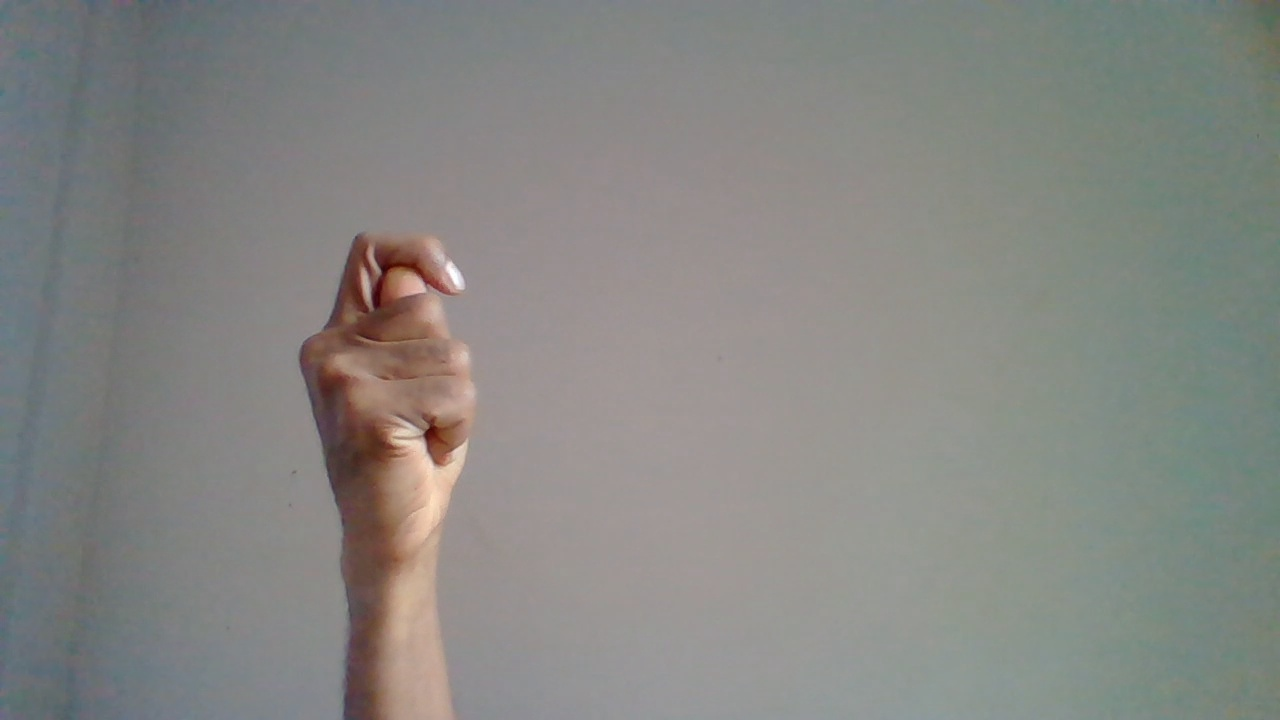che: (291, 225, 488, 693)
